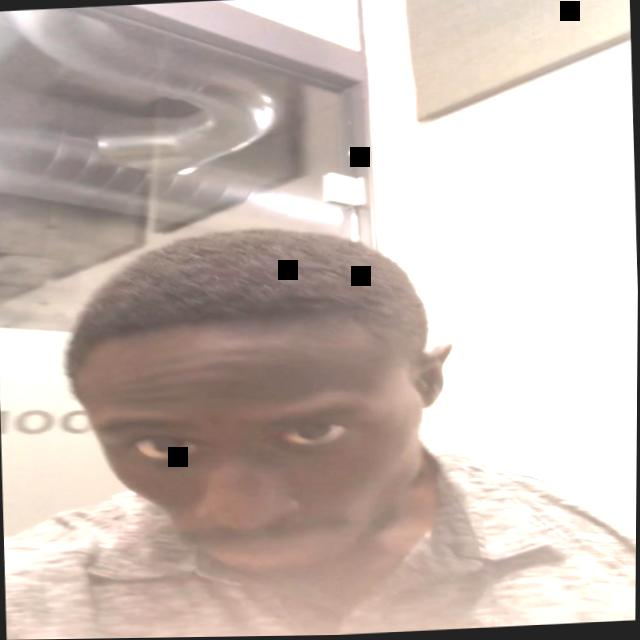NO-Mask: (72, 353, 423, 587)
